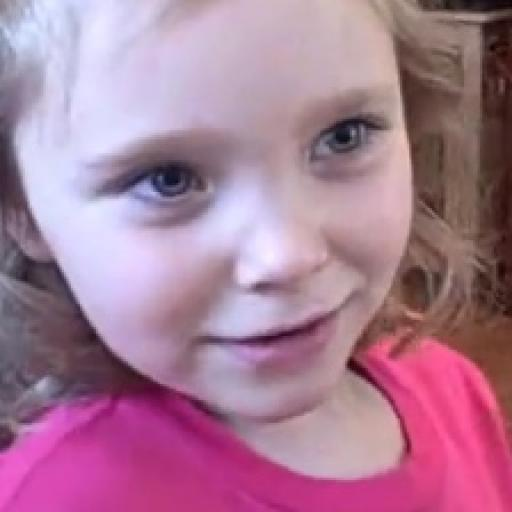Autism: (0, 8, 503, 478)
